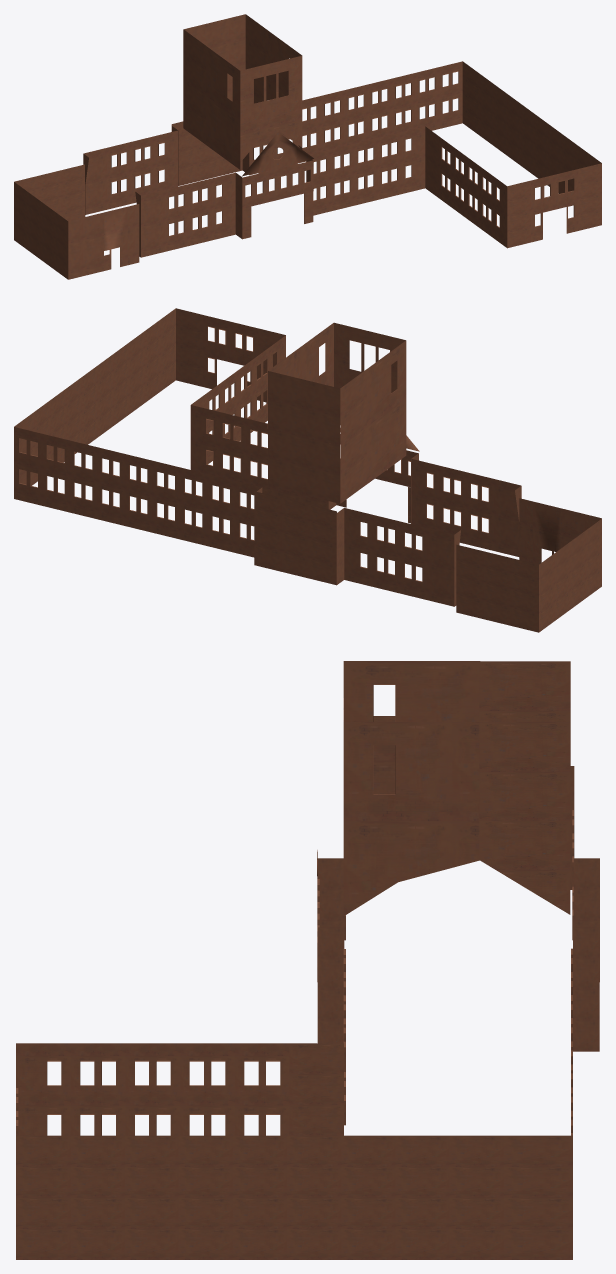
The model's file is Muros_Fachada.obj.
The picture shows the model from 3 angles, top to bottom: view 1: azimuth 30°, elevation 25°; view 2: azimuth 150°, elevation 25°; view 3: azimuth 270°, elevation 25°; orthographic projection. The views are drawn at different scales.
Visible parts, largest first — view 1: Muros_Fachada; view 2: Muros_Fachada; view 3: Muros_Fachada.
Part boxes in pixels (x1,y1,x2,y2): Muros_Fachada: (14, 14, 601, 279); Muros_Fachada: (14, 308, 601, 632); Muros_Fachada: (16, 661, 599, 1259).
Bounding box in the file's own units: 48.63 × 17.43 × 27.32.
Materials: 26 (26 with a texture image).
